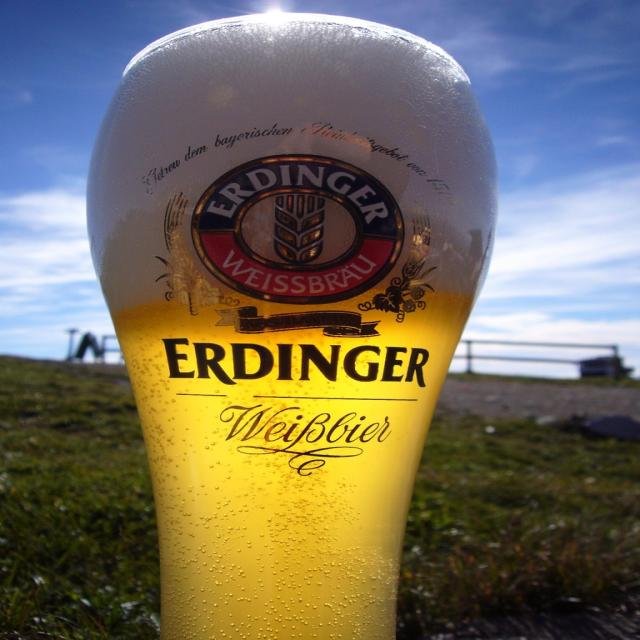erdinger: (138, 120, 465, 407)
